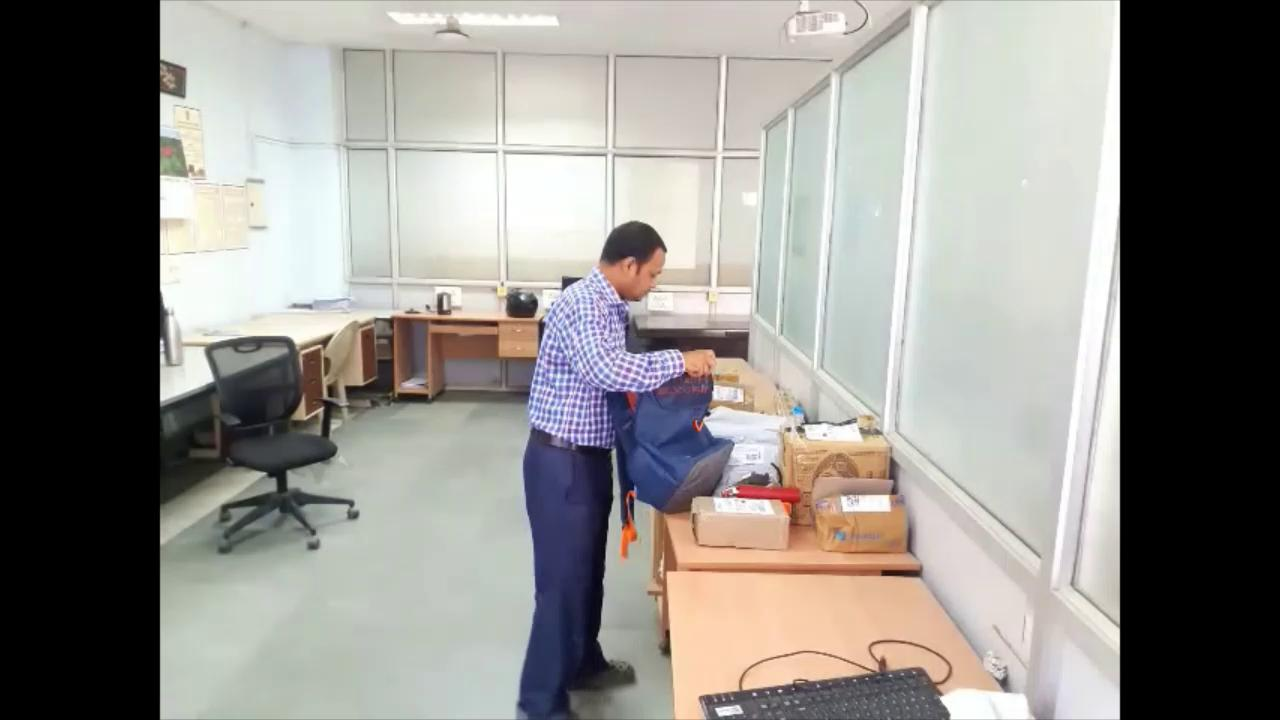shoplifting: (497, 187, 734, 720)
